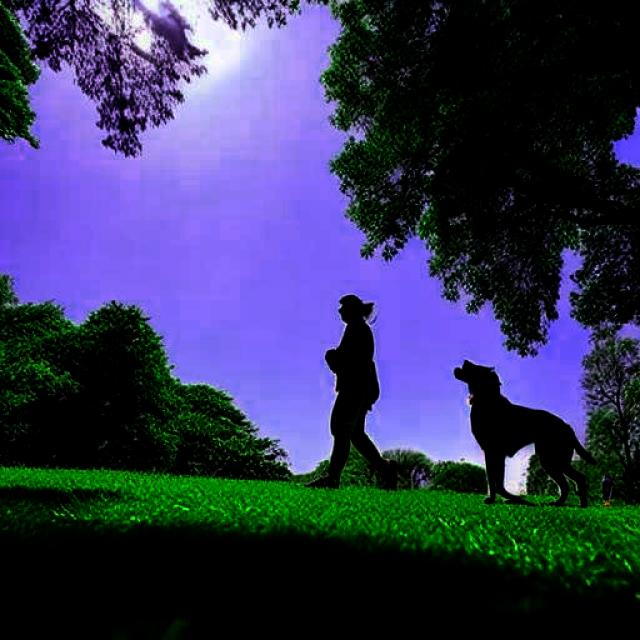Unleashed_Dog: (306, 359, 598, 505)
